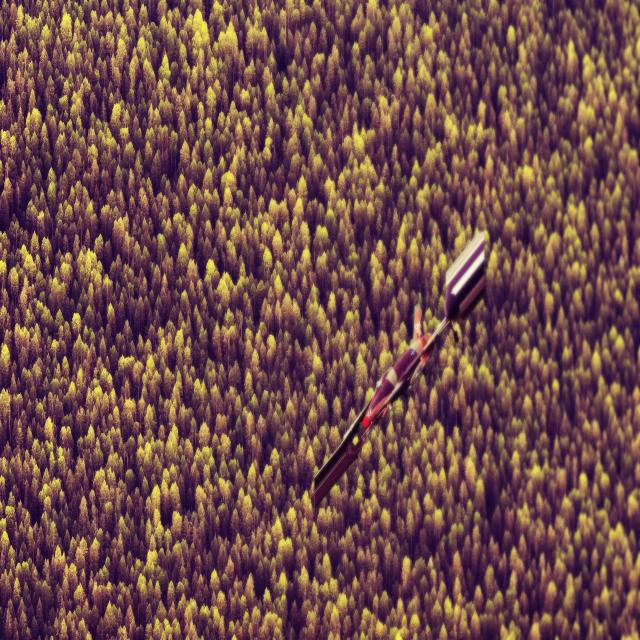airplane: (309, 228, 486, 511)
